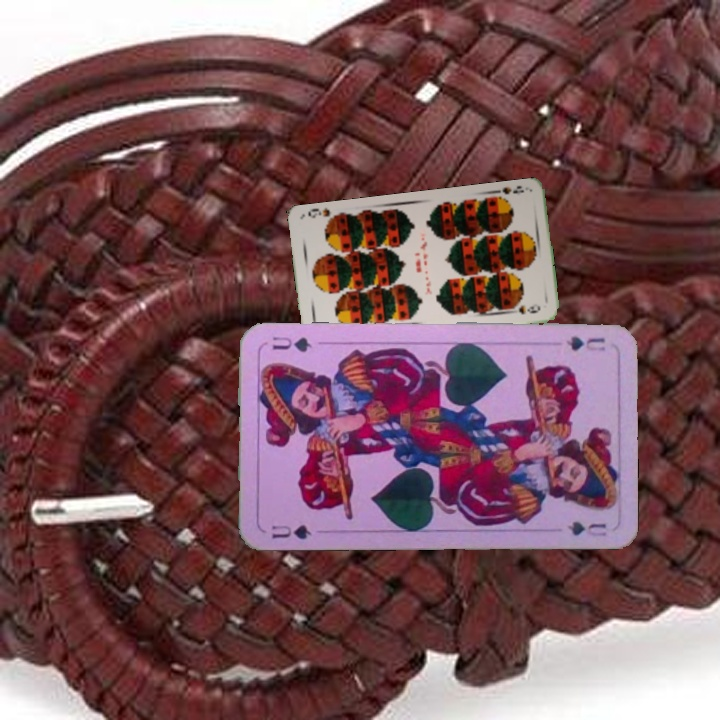GU: (562, 332, 608, 354), (268, 521, 314, 542)
S9: (489, 182, 526, 204)
